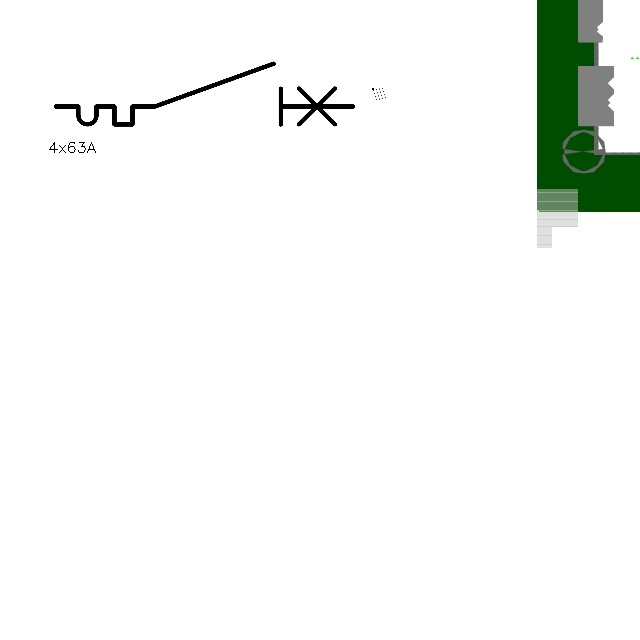interruptor_termomagnetico: (48, 56, 360, 132)
